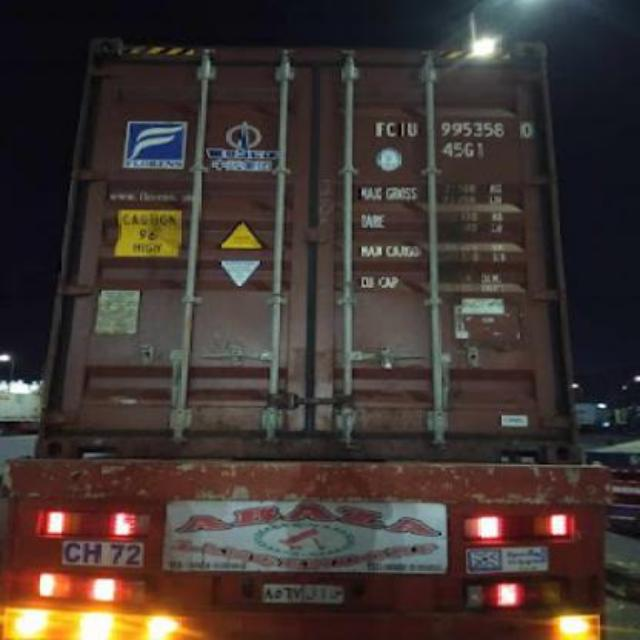0: (519, 121, 533, 139)
3: (472, 121, 482, 139)
5: (482, 122, 494, 138), (462, 122, 472, 138)
8: (494, 122, 504, 138)
9: (440, 121, 450, 137), (451, 121, 461, 137)
C: (386, 121, 396, 139)
F: (372, 121, 386, 139)
I: (399, 120, 407, 140)
U: (406, 121, 419, 139)
